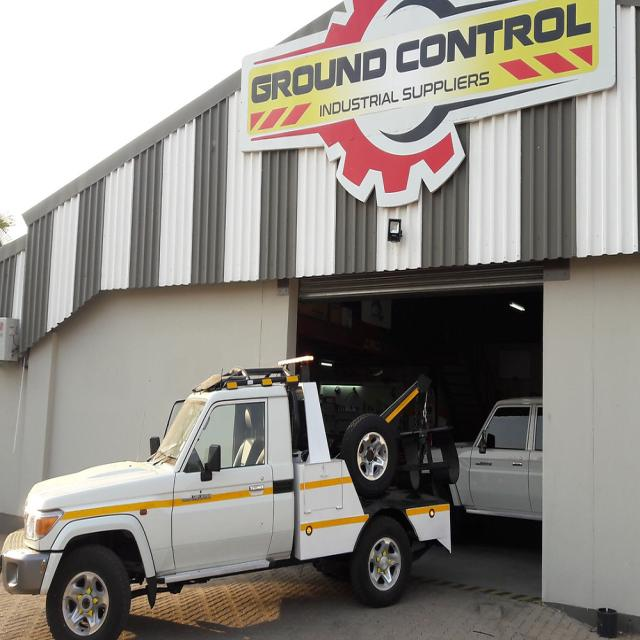light_vehicle: (2, 326, 467, 634)
